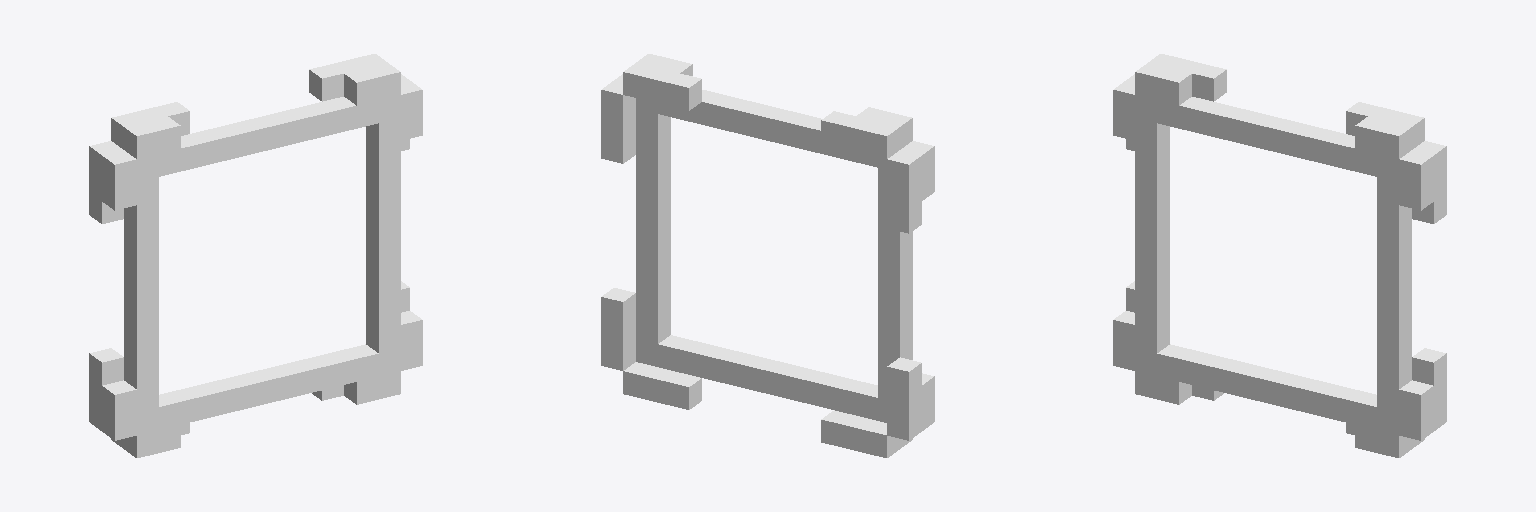
Rendered from glass_zp.obj.
3 renders of one model, left to right at view 1: azimuth 30°, elevation 25°; view 2: azimuth 150°, elevation 25°; view 3: azimuth 330°, elevation 25°, orthographic.
Size of the model in its own units: 14 by 14 by 2.